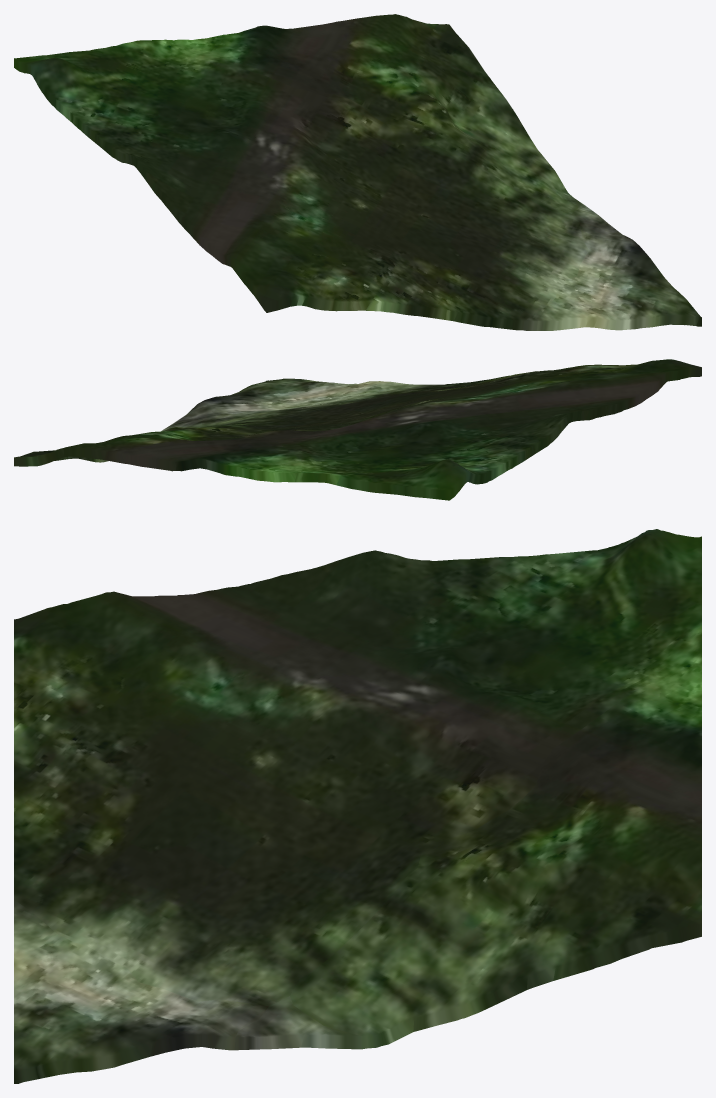
Rendered from z20-167566-405179-h0-yup-uvflip-v3-world.glb.
3 views of the same model, one above another, from view 1: azimuth 30°, elevation 25°; view 2: azimuth 150°, elevation 25°; view 3: azimuth 270°, elevation 25° (orthographic). The views are drawn at different scales.
Bounding box in the file's own units: 30.16 × 13.2 × 30.32.
Materials: 1 (1 with a texture image).
